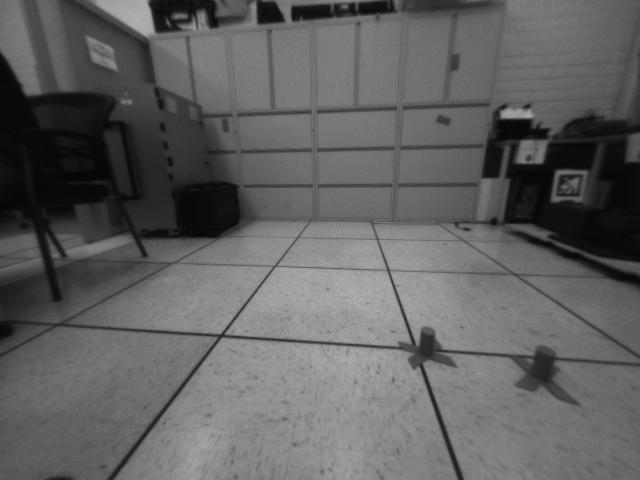X: (506, 345, 579, 405), (397, 326, 460, 368)
